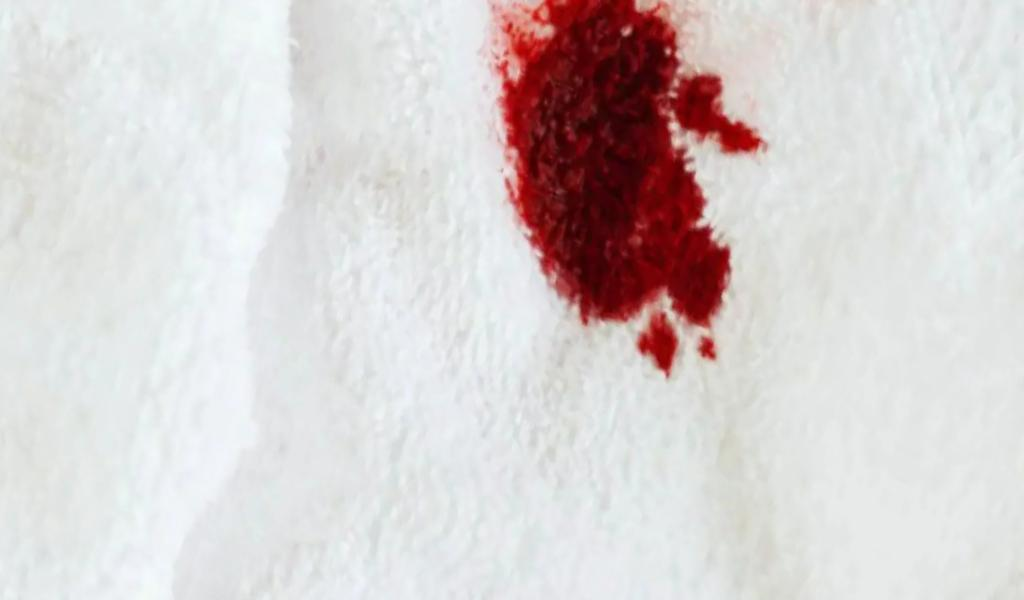stain: (482, 0, 773, 405)
